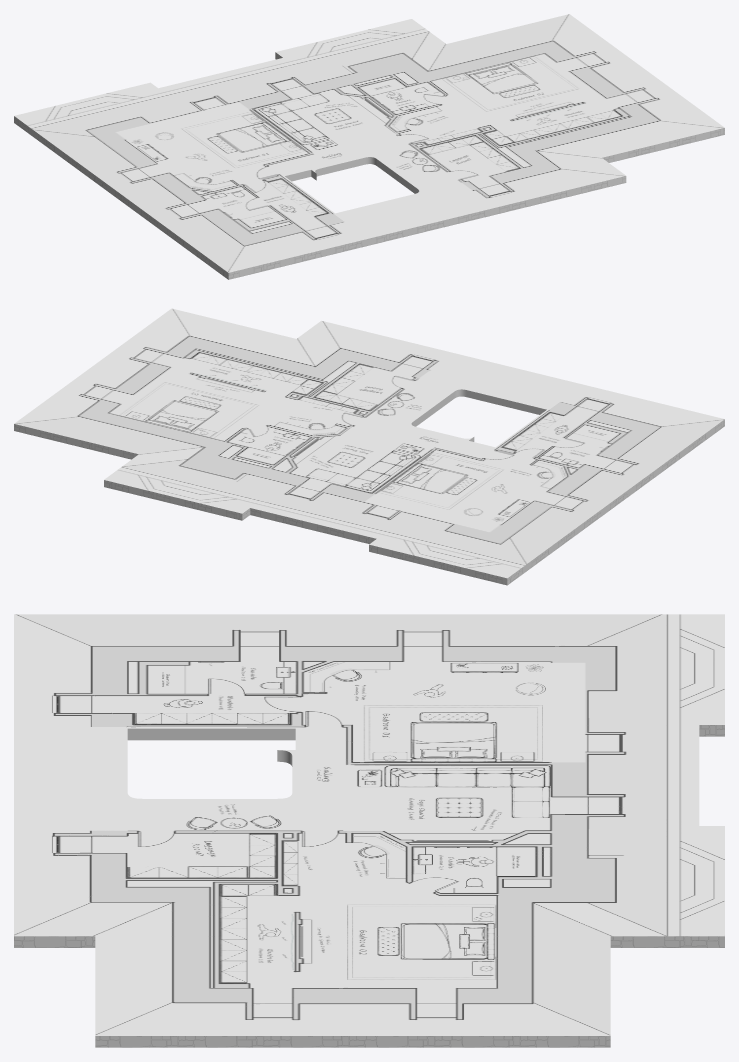
The model's file is RB05__Storey__SecondFloor__ProposedFloors__MeshModel__.glb.
3 renders of one model, top to bottom at view 1: azimuth 30°, elevation 25°; view 2: azimuth 150°, elevation 25°; view 3: azimuth 270°, elevation 25°, orthographic. The views are drawn at different scales.
Visible parts, largest first — view 1: 22__ProposedBuilding__Floors::MAT000E__RB05__SecondfloorPlan, 22__ProposedBuilding__Floors::MAT000E__Masonry__StoneworkPat, 22__ProposedBuilding__Floors::Default; view 2: 22__ProposedBuilding__Floors::MAT000E__RB05__SecondfloorPlan, 22__ProposedBuilding__Floors::MAT000E__Masonry__StoneworkPat, 22__ProposedBuilding__Floors::Default; view 3: 22__ProposedBuilding__Floors::MAT000E__RB05__SecondfloorPlan, 22__ProposedBuilding__Floors::MAT000E__Masonry__StoneworkPat, 22__ProposedBuilding__Floors::Default.
Boxes of the visible parts, <box> form: 22__ProposedBuilding__Floors::MAT000E__RB05__SecondfloorPlan: <box>14,14,724,272</box>; 22__ProposedBuilding__Floors::MAT000E__Masonry__StoneworkPat: <box>14,52,724,279</box>; 22__ProposedBuilding__Floors::Default: <box>285,157,419,193</box>; 22__ProposedBuilding__Floors::MAT000E__RB05__SecondfloorPlan: <box>14,308,724,578</box>; 22__ProposedBuilding__Floors::MAT000E__Masonry__StoneworkPat: <box>14,419,724,585</box>; 22__ProposedBuilding__Floors::Default: <box>411,389,546,441</box>; 22__ProposedBuilding__Floors::MAT000E__RB05__SecondfloorPlan: <box>14,614,724,1035</box>; 22__ProposedBuilding__Floors::MAT000E__Masonry__StoneworkPat: <box>14,725,724,1047</box>; 22__ProposedBuilding__Floors::Default: <box>127,728,295,766</box>.
Bounding box in the file's own units: 23.28 × 0.6 × 16.6.
Materials: 3 (2 with a texture image).
